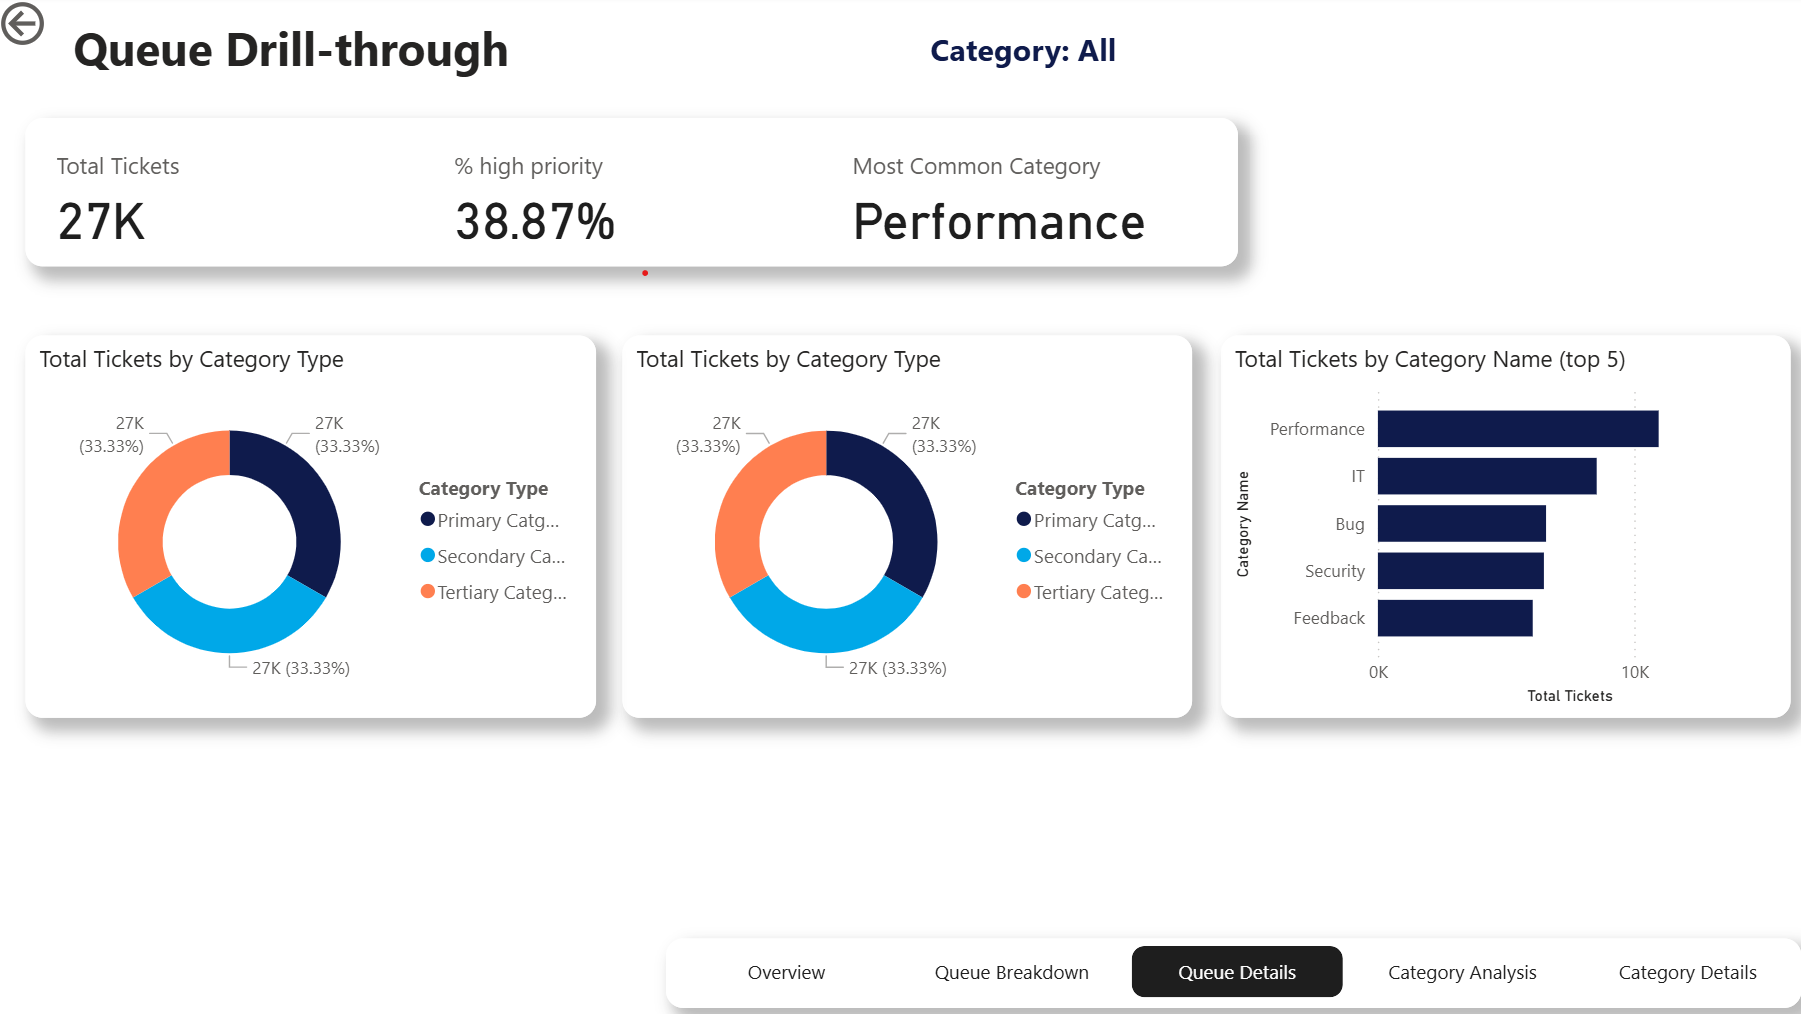

The dashboard page shown, as its layout file describes it:
{"tool":"powerbi","page":{"name":"Queue Details","canvas":[1280,720],"ordinal":2},"visuals":[{"type":"shape","box":[471,661,796.1,48.4],"z":0},{"type":"clusteredBarChart","title":"Total Tickets by Category Name (top 5)","fields":{"Category":["dataset.Category Name"],"Y":["Table.Total Tickets"]},"box":[860.2,238.7,399.6,268.2],"z":1000},{"type":"donutChart","fields":{"Category":["dataset.Category Type"],"Y":["Table.Total Tickets"]},"box":[22.1,238.7,400,268],"z":2000},{"type":"card","fields":{"Values":["Table.Queue Page Title"]},"box":[446.9,20,548.9,38.9],"z":3000},{"type":"donutChart","fields":{"Category":["dataset.Category Type"],"Y":["Table.Total Tickets"]},"box":[440.6,238.7,399.6,268.2],"z":4000},{"type":"pageNavigator","box":[481.6,666.7,780.3,36.8],"z":5000},{"type":"cardVisual","fields":{"Data":["Table.Total Tickets","Table.% high priority","Table.Most Common Category"]},"box":[22.1,86.2,849.7,104.1],"z":6000},{"type":"actionButton","box":[0,0,100,40],"z":7000},{"type":"textbox","box":[50.5,9.5,329.2,59.9],"z":8000}]}

Visuals, with their boxes in screenshot pixels (x1, y1, x2, y2), scaled from the page's 1280x720 canvas onto the 1801x1014 screenshot:
shape: pyautogui.locateOnScreen(663, 931, 1783, 999)
"Total Tickets by Category Name (top 5)" clusteredBarChart: pyautogui.locateOnScreen(1210, 336, 1773, 714)
donutChart - dataset.Category Type x Table.Total Tickets: pyautogui.locateOnScreen(31, 336, 594, 714)
card - Table.Queue Page Title: pyautogui.locateOnScreen(629, 28, 1401, 83)
donutChart - dataset.Category Type x Table.Total Tickets: pyautogui.locateOnScreen(620, 336, 1182, 714)
pageNavigator: pyautogui.locateOnScreen(678, 939, 1776, 991)
cardVisual - Table.Total Tickets x Table.% high priority: pyautogui.locateOnScreen(31, 121, 1227, 268)
actionButton: pyautogui.locateOnScreen(0, 0, 141, 56)
textbox: pyautogui.locateOnScreen(71, 13, 534, 98)
